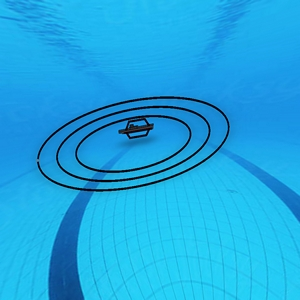circle: (40, 94, 227, 195)
submarine: (119, 117, 156, 139)
